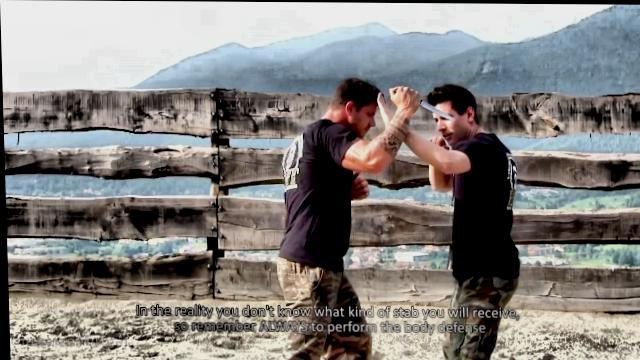knife: (388, 85, 456, 120)
